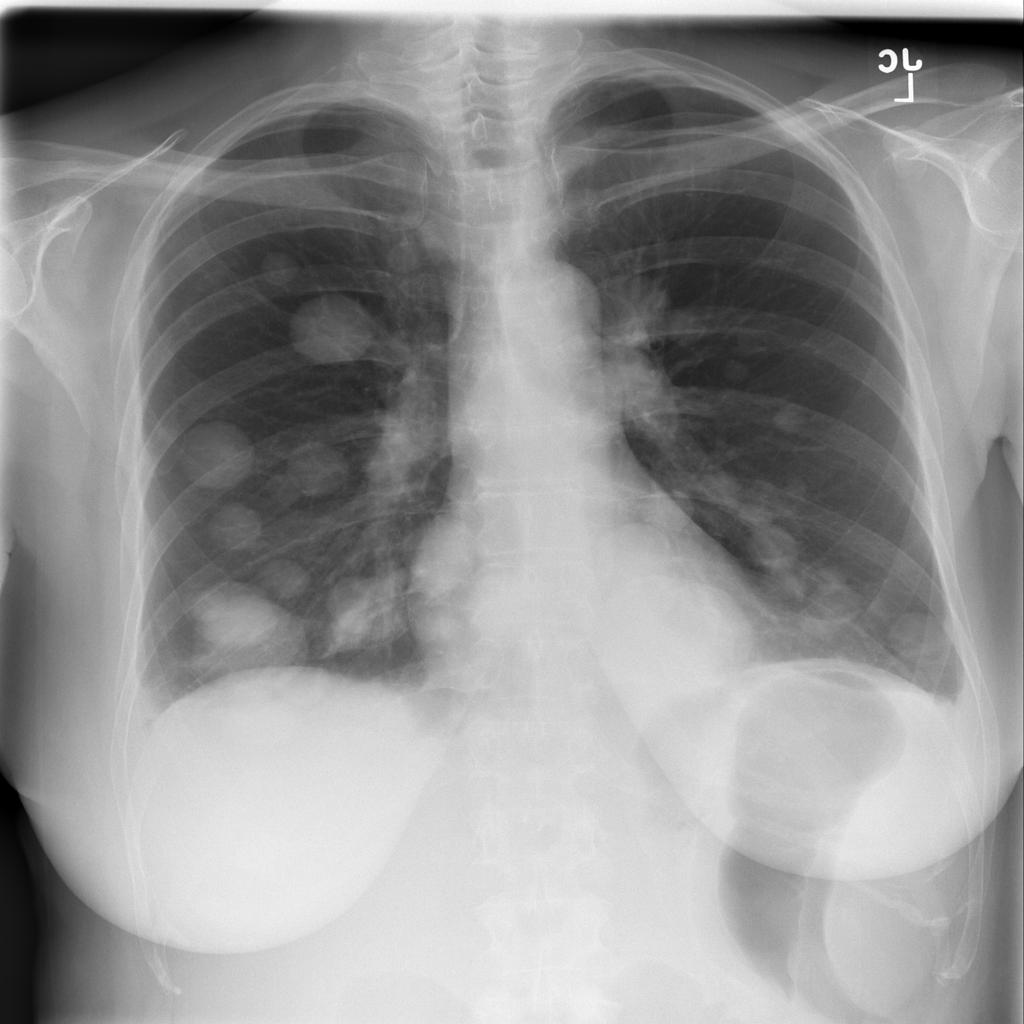nodule: (581, 563, 763, 716), (170, 578, 305, 679), (277, 284, 390, 379), (403, 516, 486, 599), (315, 580, 398, 660), (276, 433, 358, 510), (876, 605, 960, 677), (789, 565, 873, 635), (173, 428, 260, 494), (734, 513, 812, 581), (627, 476, 707, 541), (648, 290, 723, 358), (366, 218, 442, 285), (195, 495, 274, 556), (241, 237, 316, 300), (244, 552, 317, 614), (762, 395, 821, 442), (764, 465, 824, 508), (710, 349, 760, 395)
